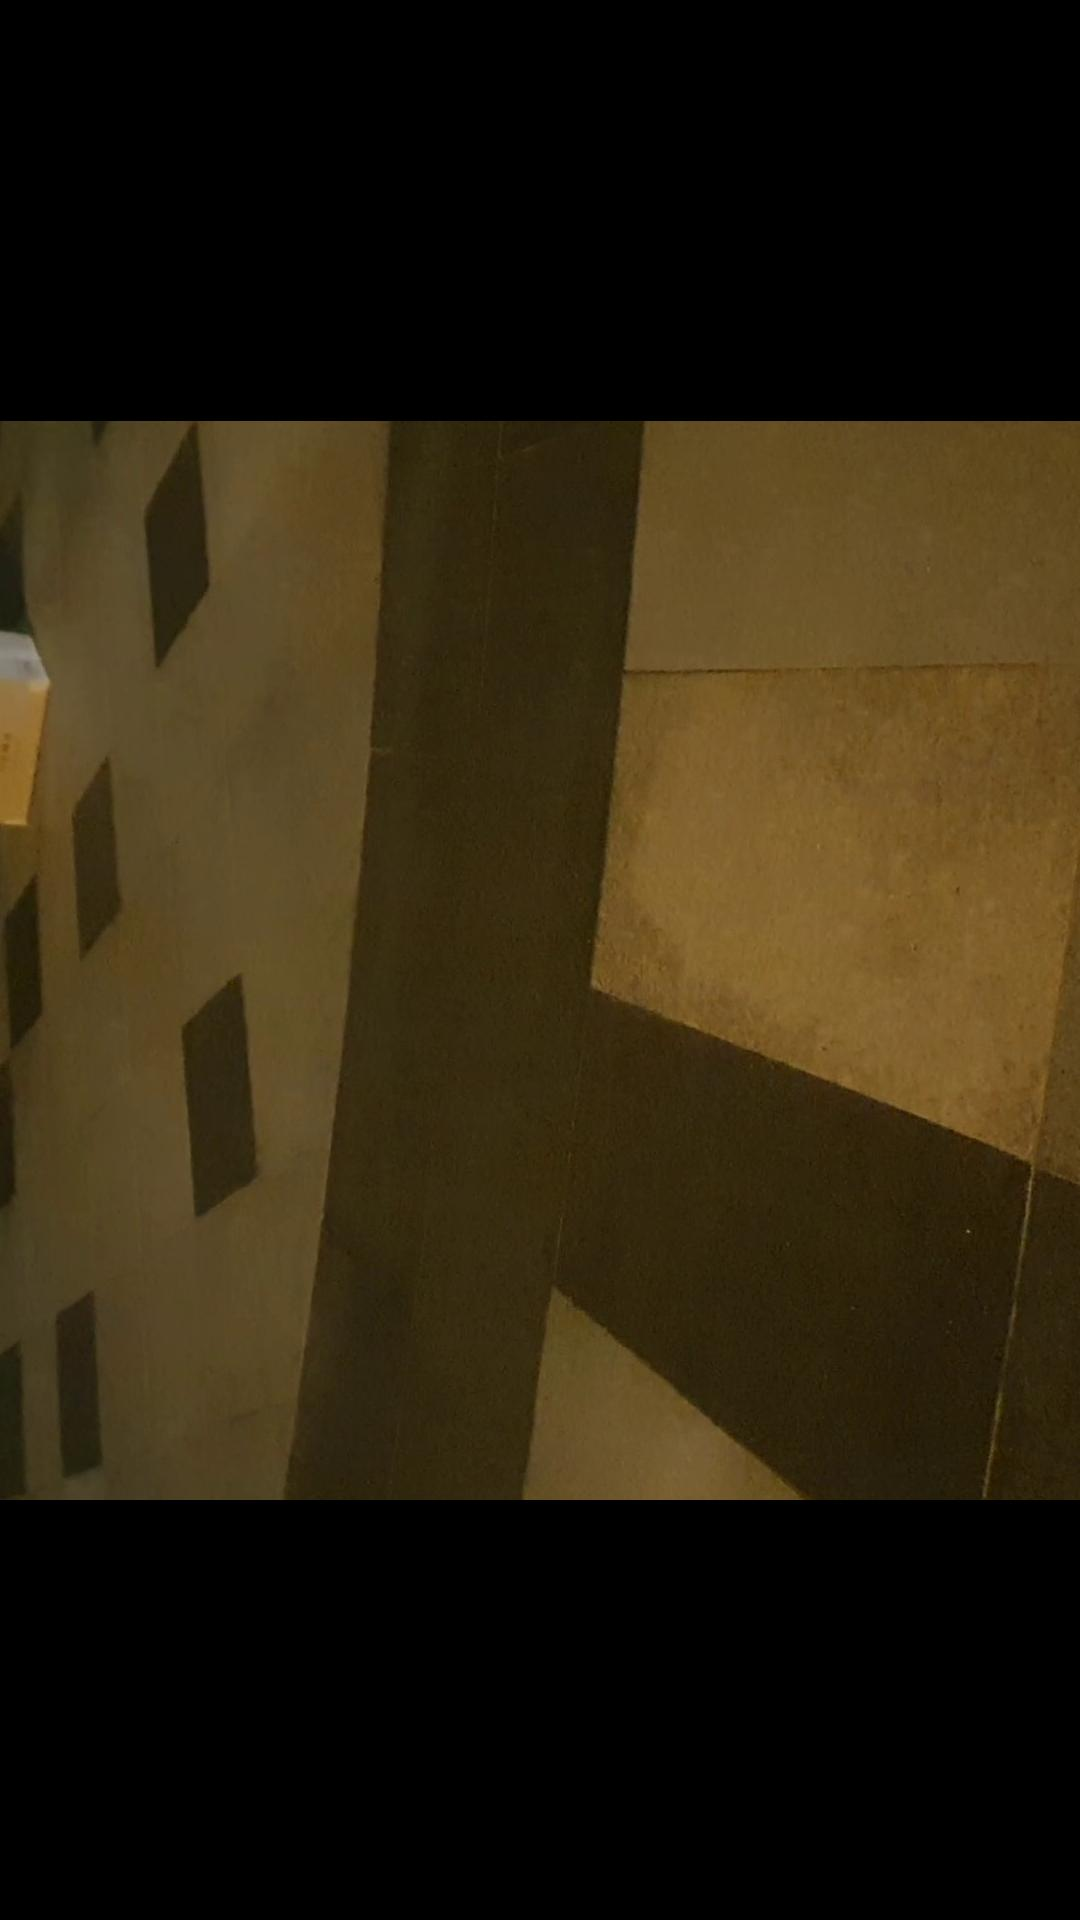Box: (0, 625, 58, 824)
